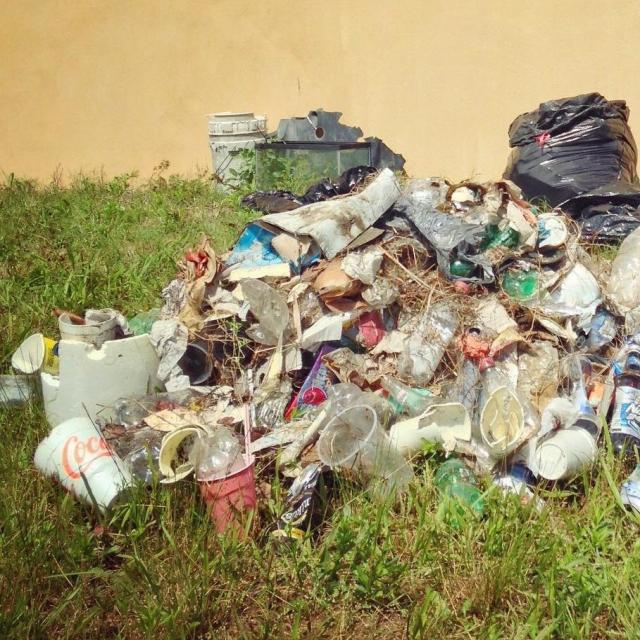garbage: (2, 65, 640, 581)
